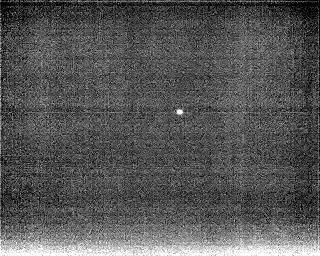AIRPLANE: (174, 107, 185, 117)
